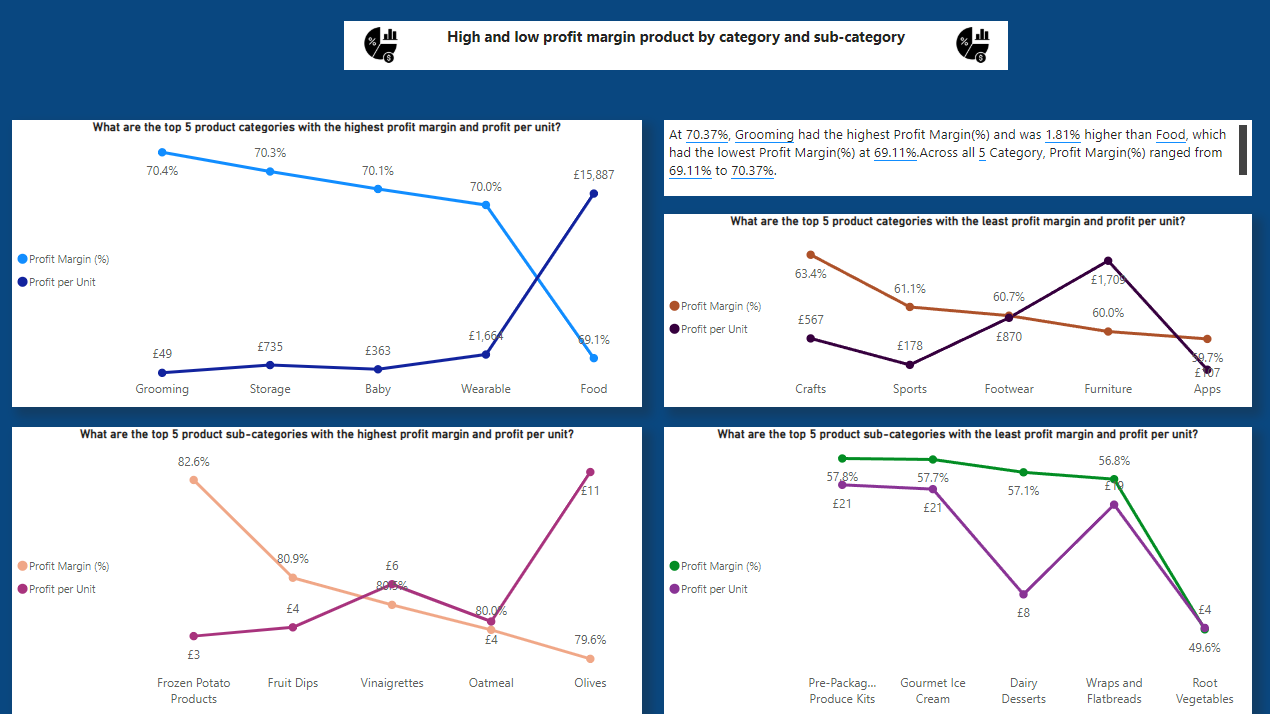

The page's visual inventory and layout, read from the dashboard file:
{"tool":"powerbi","page":{"name":"Profit margin insights","canvas":[1280,720],"ordinal":2},"visuals":[{"type":"lineChart","title":"What are the top 5 product categories with the highest profit margin and profit per unit?","fields":{"Category":["Ace Superstore RetailFact.Category"],"Y":["0-Measure.Profit Margin (%)"],"Y2":["0-Measure.Profit per Unit"]},"box":[20.4,126.4,629.3,286.9],"z":0},{"type":"lineChart","title":"What are the top 5 product sub-categories with the highest profit margin and profit per unit?","fields":{"Y":["0-Measure.Profit Margin(%)"],"Category":["Ace Superstore RetailFact.Sub-Category"],"Y2":["0-Measure.Profit per Unit"]},"box":[20.4,432.8,629.3,286.9],"z":1000},{"type":"lineChart","title":"What are the top 5 product categories with the least profit margin and profit per unit?","fields":{"Y":["0-Measure.Profit Margin(%)"],"Category":["Ace Superstore RetailFact.Category"],"Y2":["0-Measure.Profit per Unit"]},"box":[672.1,219.8,587.5,193.6],"z":2000},{"type":"lineChart","title":"What are the top 5 product sub-categories with the least profit margin and profit per unit?","fields":{"Y":["0-Measure.Profit Margin(%)"],"Category":["Ace Superstore RetailFact.Sub-Category"],"Y2":["0-Measure.Profit per Unit"]},"box":[672.1,432.8,587.5,286.9],"z":3000},{"type":"textbox","box":[672.1,126.4,587.5,75.9],"z":4000},{"type":"textbox","box":[352.1,27.2,664.3,48.6],"z":5000},{"type":"image","box":[946.4,27.2,70,47.7],"z":8000},{"type":"image","box":[352.1,27.2,73.9,47.7],"z":8500}]}

Visuals, with their boxes in screenshot pixels (x1, y1, x2, y2), scaled from the page's 1280x720 canvas onto the 1270x714 screenshot:
"What are the top 5 product categories with the highest profit margin and profit per unit?" lineChart: [20,125,645,410]
"What are the top 5 product sub-categories with the highest profit margin and profit per unit?" lineChart: [20,429,645,713]
"What are the top 5 product categories with the least profit margin and profit per unit?" lineChart: [667,218,1250,410]
"What are the top 5 product sub-categories with the least profit margin and profit per unit?" lineChart: [667,429,1250,713]
textbox: [667,125,1250,201]
textbox: [349,27,1008,75]
image: [939,27,1008,74]
image: [349,27,423,74]
